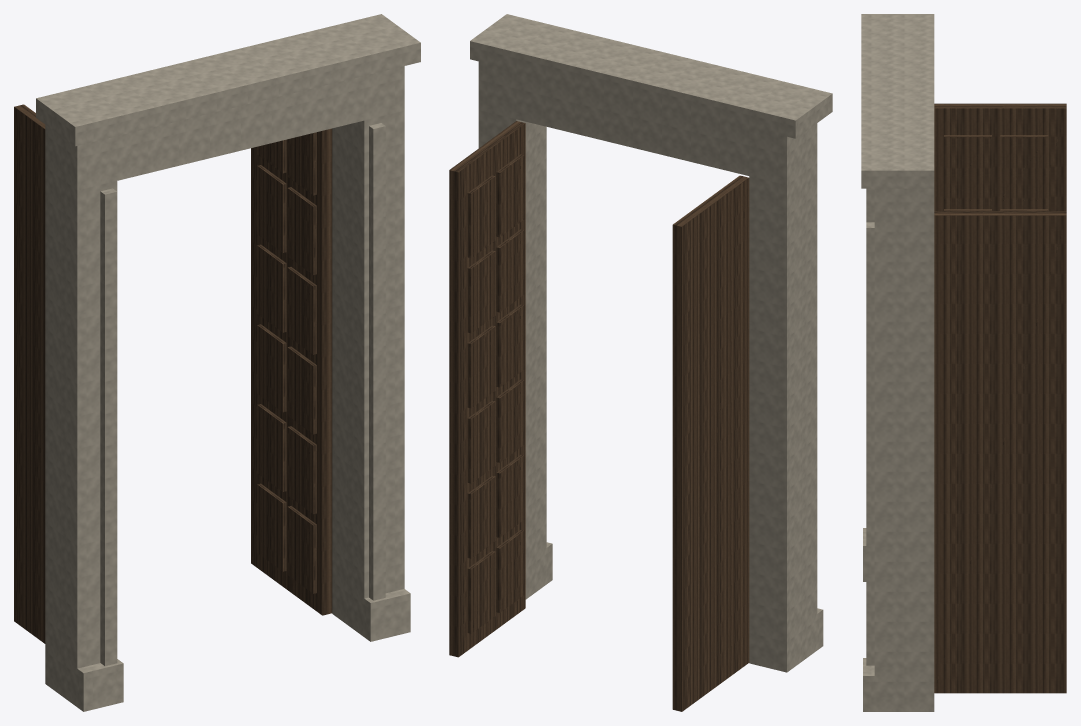
File: Door_Throne_Imperial_1_LOD1.gltf
The picture shows the model from 3 angles, left to right: view 1: azimuth 30°, elevation 25°; view 2: azimuth 150°, elevation 25°; view 3: azimuth 270°, elevation 25°; orthographic projection. The views are drawn at different scales.
Parts seen in each view (by area): view 1: Door_Throne_Imperial_1_LOD1; view 2: Door_Throne_Imperial_1_LOD1; view 3: Door_Throne_Imperial_1_LOD1.
Boxes of the visible parts, x1,y1,x2,y2 form: Door_Throne_Imperial_1_LOD1: (14,14,420,711); Door_Throne_Imperial_1_LOD1: (449,14,832,711); Door_Throne_Imperial_1_LOD1: (861,14,1066,711).
Bounding box in the file's own units: 11.2 × 18.2 × 6.2.
2 materials, 2 textured.
